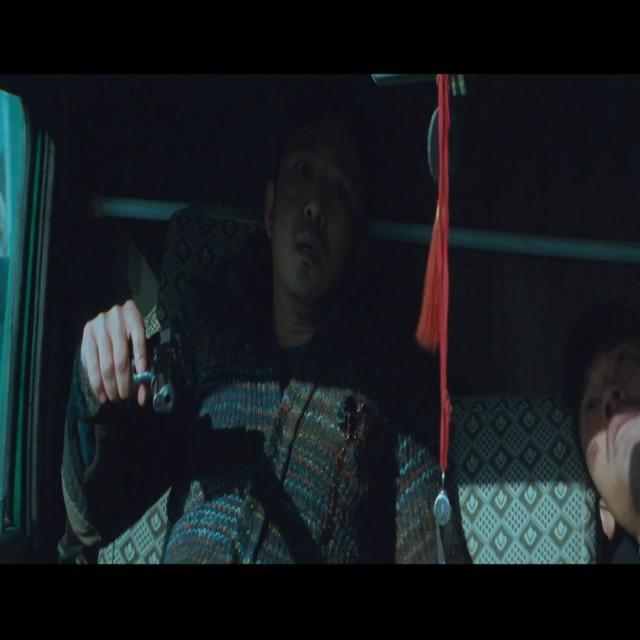gun-knife-thesis - v11 Yolov5 augmented: (88, 314, 188, 415)
